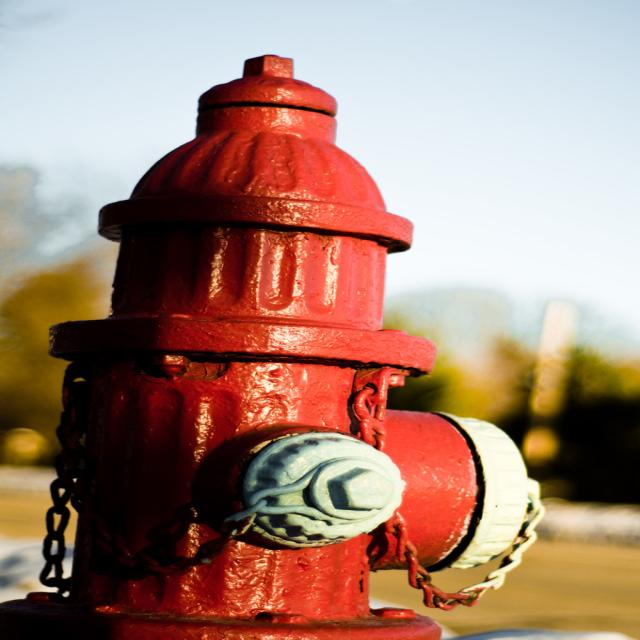fire_hydrant: (0, 53, 538, 640)
